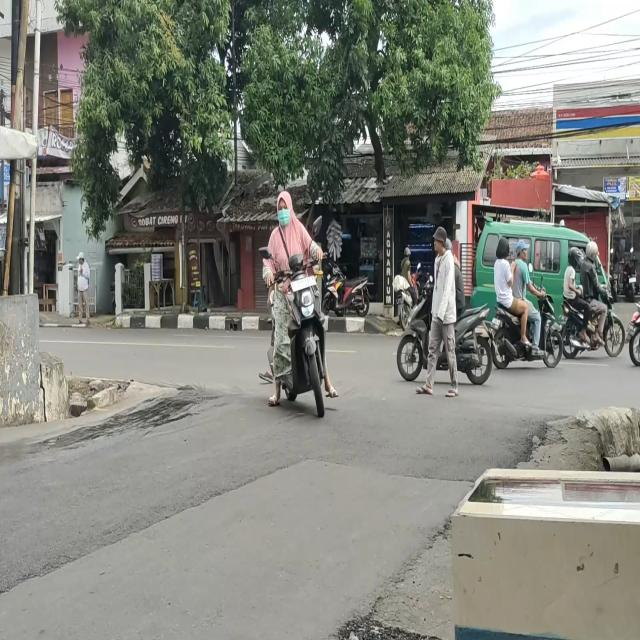helmet: (583, 239, 599, 265), (567, 244, 583, 267)
no-helmet: (276, 194, 296, 223), (495, 240, 512, 264), (514, 238, 528, 263), (402, 244, 413, 263)
